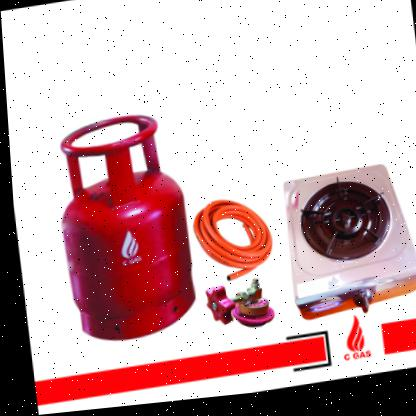gas-tank: (22, 97, 214, 363)
